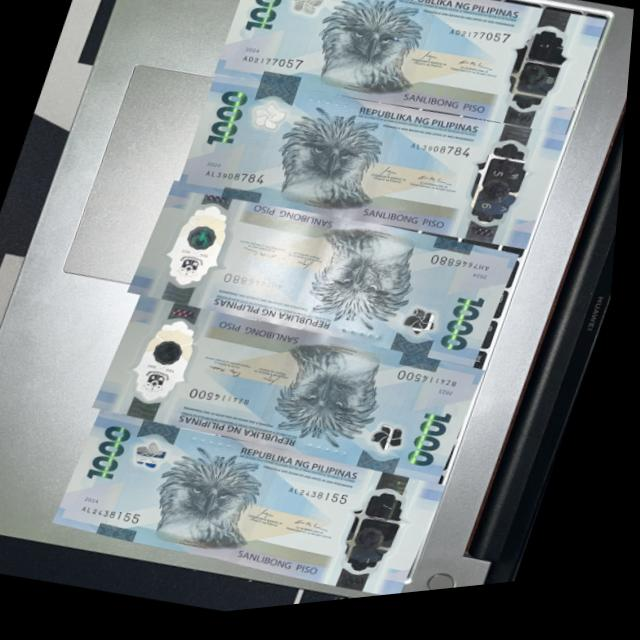clear_window: (143, 178, 261, 321), (121, 297, 219, 437)
eagle: (293, 0, 456, 126), (295, 214, 441, 354), (152, 431, 294, 568)
sampaguita: (129, 432, 188, 485), (365, 420, 424, 472), (244, 95, 298, 146), (280, 0, 333, 30)
